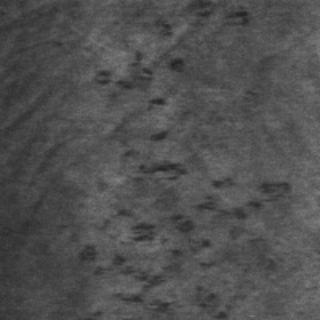rolled pit: (69, 175, 293, 315), (90, 34, 194, 212)
